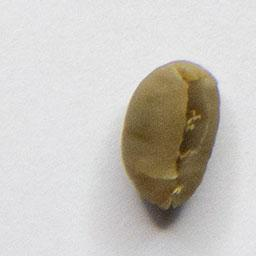peaberry: (117, 57, 224, 215)
